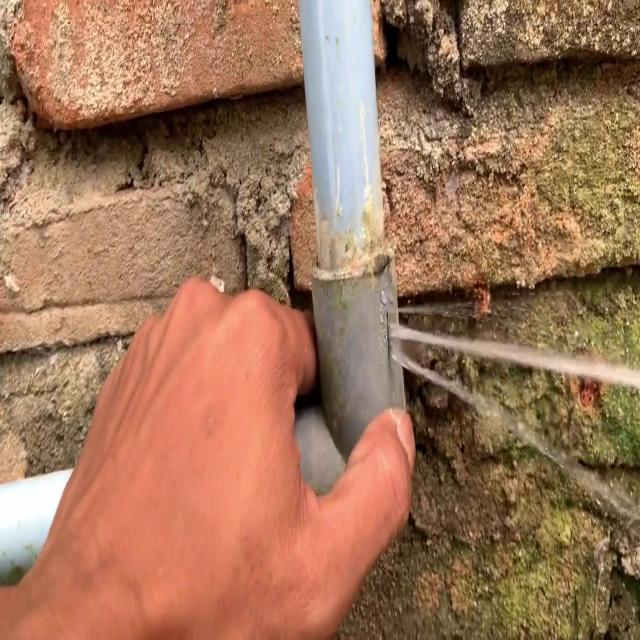leak: (388, 310, 640, 535)
